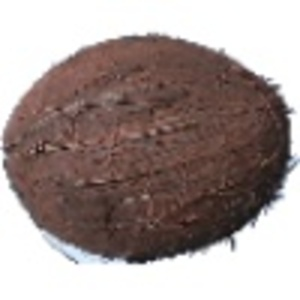coco: (1, 35, 300, 265)
